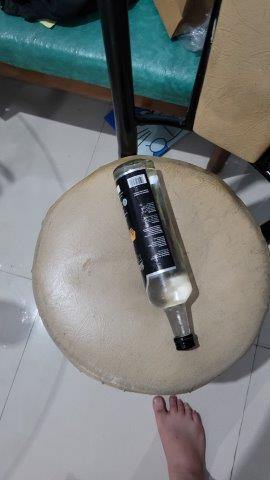botolkaca: (113, 159, 198, 351)
